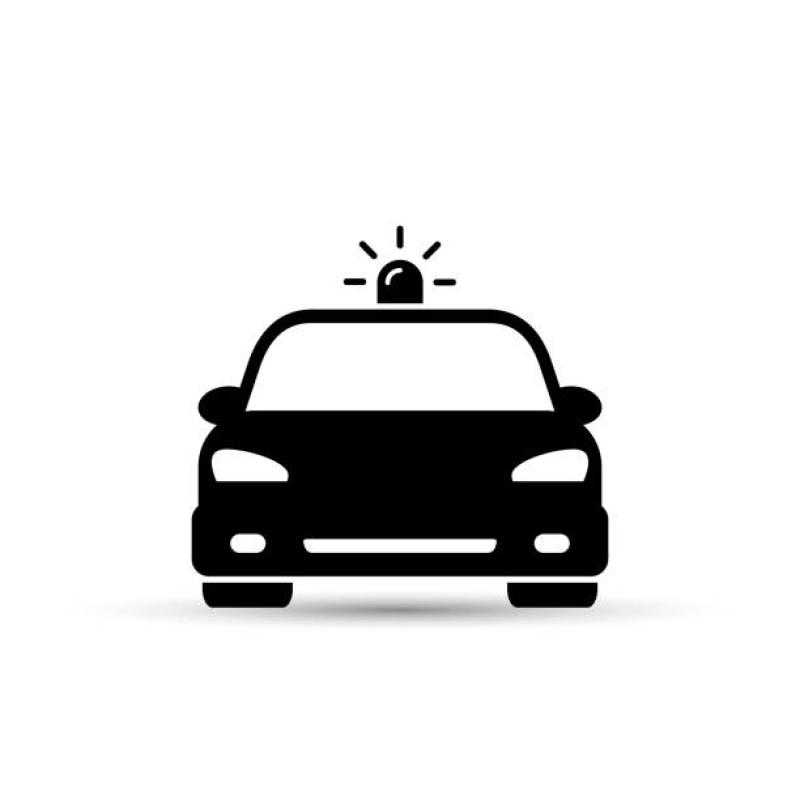AmbulanceSiren: (353, 243, 459, 320)
